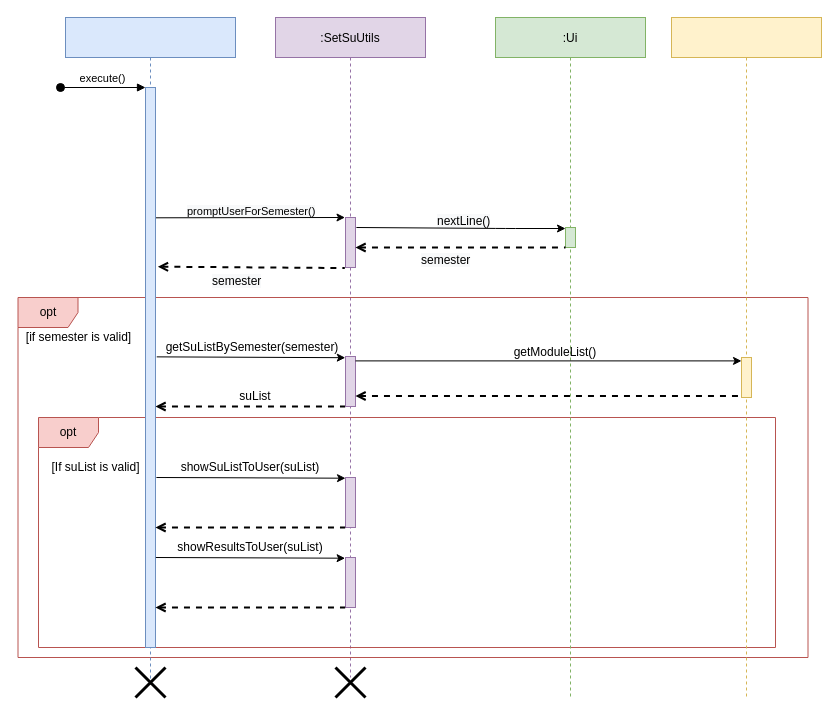
Image size: 839x716. Some labels were removed from this diagram. The box of each missing label's shape, as (x1, y1, x2, y2) in pixels:
:Person: (670, 16, 822, 698)
:SetSuBySemesterCommand: (64, 16, 236, 688)
